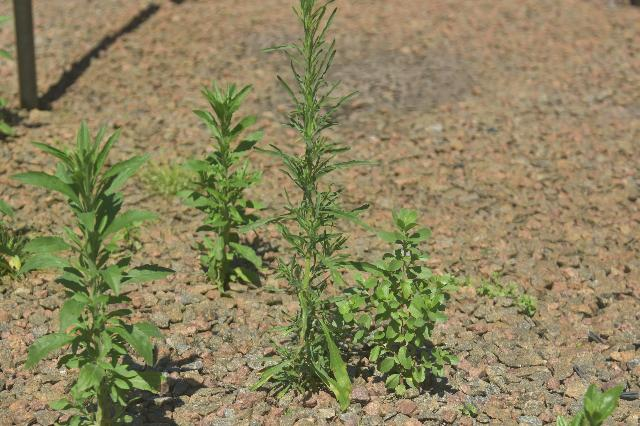MalezaMontesDelPlata: (19, 120, 158, 426), (263, 1, 361, 418), (178, 76, 269, 298), (368, 204, 461, 405), (469, 266, 542, 331), (552, 381, 626, 426), (0, 192, 33, 292)
